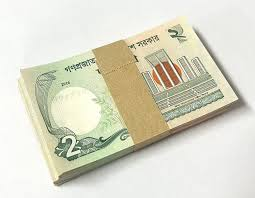2_taka: (27, 25, 224, 166)
